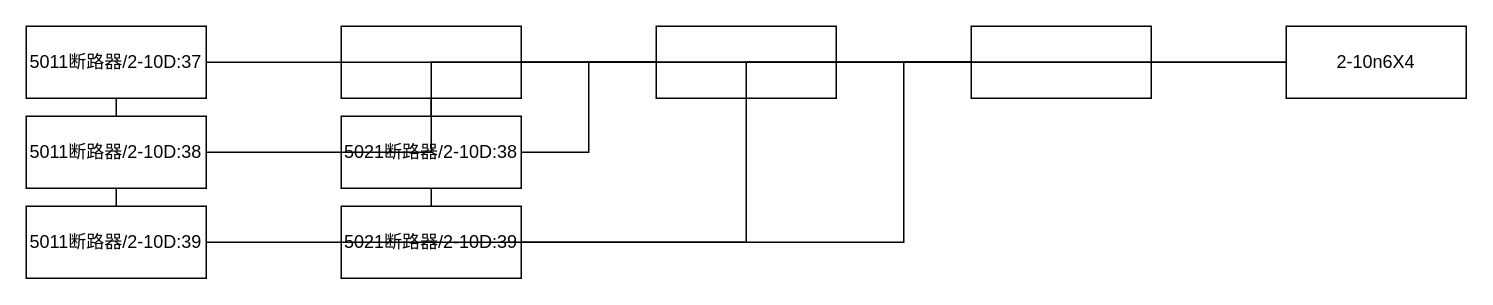
This 1493x305 diagram has some shape labels left out. Here are the shapes that lost their labels. From the top down, the centre of each, then its label:
At (430,61): "5021断路器/2-10D:37".
At (745,61): "2-10n4X10".
At (1060,61): "2-10n4X7".
